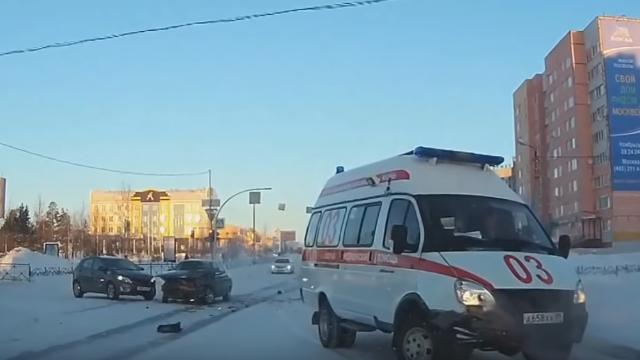ambulance: (302, 146, 590, 359)
non emergency car: (71, 253, 157, 303), (162, 259, 234, 306), (272, 258, 295, 276)
